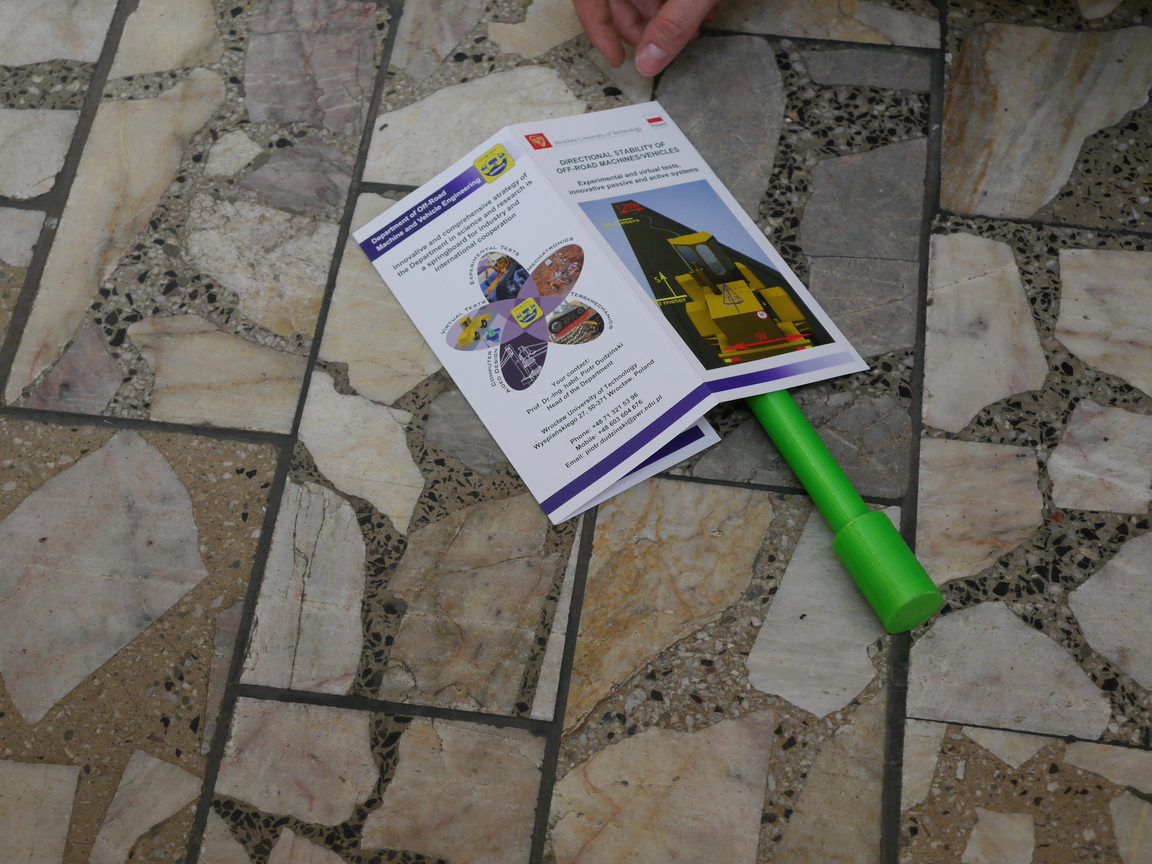cargo_g: (749, 386, 943, 635)
